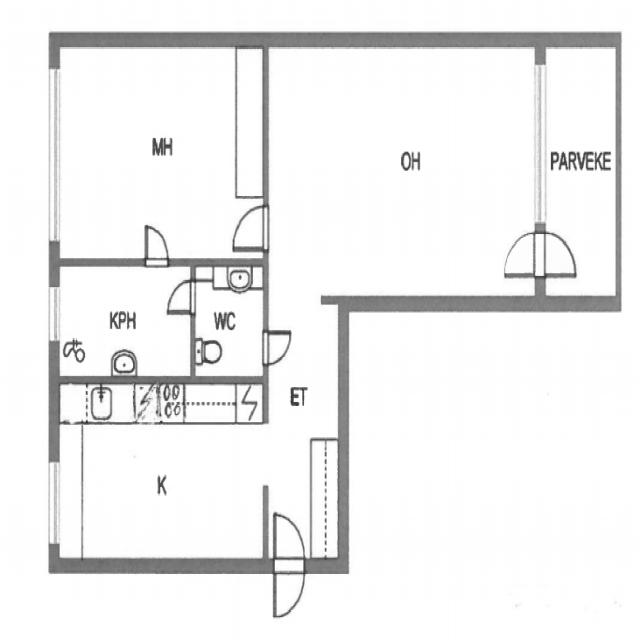door: (266, 503, 311, 623), (498, 226, 582, 279), (225, 194, 274, 256), (255, 321, 297, 369), (138, 217, 173, 271), (163, 276, 197, 316)
window: (37, 59, 68, 250), (527, 56, 552, 235), (43, 453, 64, 554), (43, 277, 65, 350)
zone: (262, 43, 534, 298), (50, 44, 266, 265), (54, 380, 273, 572), (542, 44, 619, 291), (56, 263, 191, 380), (190, 263, 268, 380), (265, 484, 317, 620)
